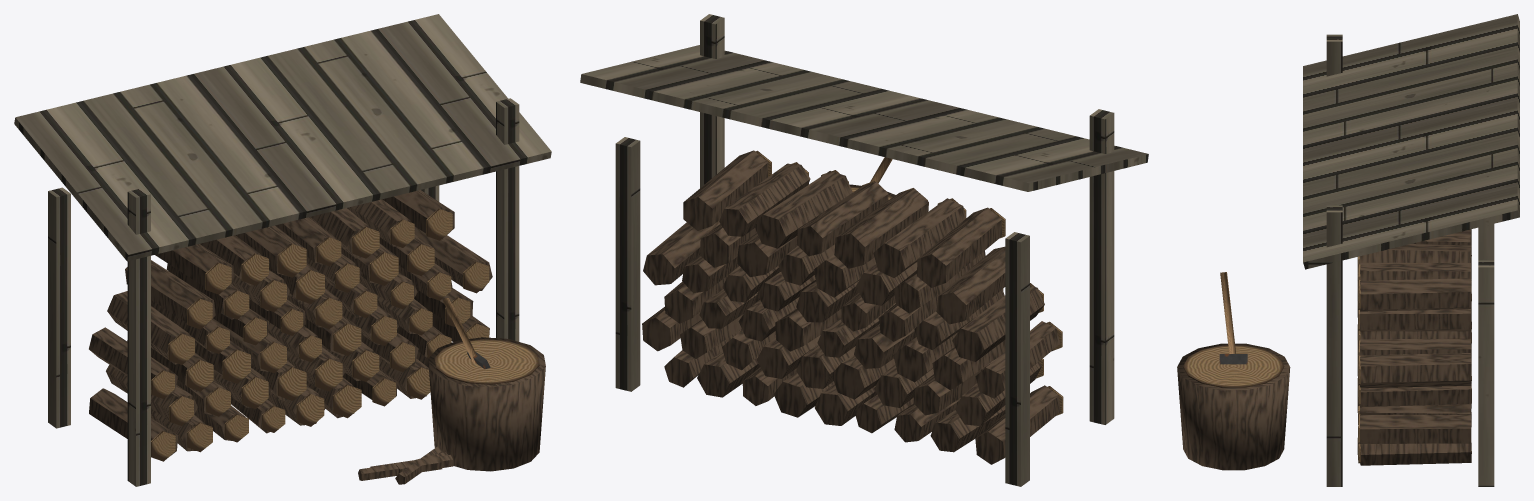
The model's file is firewood_pile.glb.
The picture shows the model from 3 angles, left to right: view 1: azimuth 30°, elevation 25°; view 2: azimuth 150°, elevation 25°; view 3: azimuth 270°, elevation 25°; orthographic projection. The views are drawn at different scales.
Visible parts, largest first — view 1: LeanTo, Firewood, LogEnds, Stump, StumpTop; view 2: Firewood, LeanTo, LogEnds; view 3: LeanTo, Firewood, Stump, StumpTop, LogEnds, AxeHandle.
Boxes of the visible parts, bbox=[...] form: LeanTo: bbox=[14, 14, 551, 486]; Firewood: bbox=[89, 190, 492, 484]; LogEnds: bbox=[151, 208, 489, 461]; Stump: bbox=[428, 337, 545, 471]; StumpTop: bbox=[434, 339, 539, 384]; Firewood: bbox=[642, 150, 1060, 464]; LeanTo: bbox=[580, 14, 1148, 486]; LogEnds: bbox=[755, 150, 1063, 415]; LeanTo: bbox=[1303, 14, 1519, 486]; Firewood: bbox=[1359, 229, 1471, 465]; Stump: bbox=[1177, 343, 1290, 470]; StumpTop: bbox=[1183, 345, 1284, 387]; LogEnds: bbox=[1357, 256, 1360, 463]; AxeHandle: bbox=[1220, 272, 1235, 353].
Size of what is drawn, in the model's own units: 2.3 by 1.56 by 1.7.
Materials: 5 (5 with a texture image).
